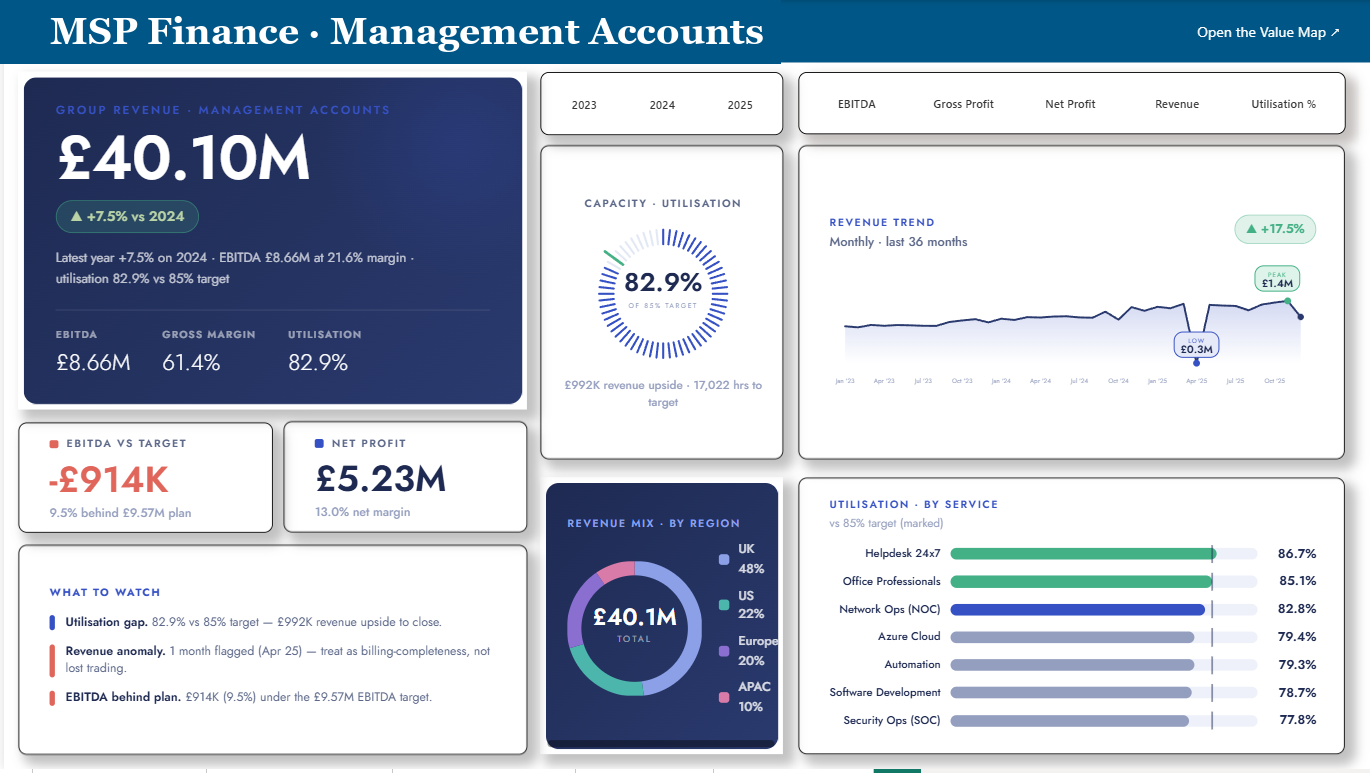

This screenshot's page, from the dashboard's own definition file:
{"tool":"powerbi","page":{"name":"Cover","canvas":[1280,720],"ordinal":0},"visuals":[{"type":"shape","box":[0,0,1280,58.4],"z":0},{"type":"textbox","title":"RVS iGlobal · Management Accounts","box":[13.5,9,718.1,49.4],"z":1000},{"type":"htmlContent443BE3AD55E043BF878BED274D3A6855","fields":{"content":["_Measures.Hero Card (Exec)"]},"box":[13.9,67.4,476.4,316.1],"z":2000},{"type":"htmlContent443BE3AD55E043BF878BED274D3A6855","fields":{"content":["_Measures.KPI Card - Net Profit"]},"box":[261.8,394.4,228.1,104.5],"z":3000},{"type":"htmlContent443BE3AD55E043BF878BED274D3A6855","fields":{"content":["_Measures.KPI Card - EBITDA vs Target"]},"box":[13.5,395.6,238.2,103.4],"z":4000},{"type":"htmlContent443BE3AD55E043BF878BED274D3A6855","fields":{"content":["_Measures.Utilisation Gauge"]},"box":[502.7,136.5,227.5,294.6],"z":5000},{"type":"htmlContent443BE3AD55E043BF878BED274D3A6855","fields":{"content":["_Measures.Trend Chart (Dynamic)"]},"box":[743.8,136.5,511.8,294.6],"z":6000},{"type":"advancedSlicerVisual","fields":{"Values":["Metric.Metric"]},"box":[743.9,67.4,512.4,58.4],"z":7000},{"type":"advancedSlicerVisual","fields":{"Values":["dim_date.Date Hierarchy.Year"]},"box":[502.7,67.1,227.5,59.1],"z":8000},{"type":"htmlContent443BE3AD55E043BF878BED274D3A6855","fields":{"content":["_Measures.Watch List"]},"box":[13.5,510.2,476.5,196.7],"z":9000},{"type":"htmlContent443BE3AD55E043BF878BED274D3A6855","fields":{"content":["_Measures.Revenue Mix Donut"]},"box":[502.7,446.9,227.5,259.3],"z":10000},{"type":"htmlContent443BE3AD55E043BF878BED274D3A6855","fields":{"content":["_Measures.Util by Service"]},"box":[743.8,446.9,511.8,259.3],"z":11000},{"type":"actionButton","box":[1099.6,10.3,170.9,39.9],"z":11001}]}

Visuals, with their boxes in screenshot pixels (x1, y1, x2, y2), scaled from the page's 1280x720 canvas onto the 1370x773 screenshot:
shape: 0 0 1369 63
"RVS iGlobal · Management Accounts" textbox: 14 10 783 63
htmlContent443BE3AD55E043BF878BED274D3A6855 - _Measures.Hero Card (Exec): 15 72 525 412
htmlContent443BE3AD55E043BF878BED274D3A6855 - _Measures.KPI Card - Net Profit: 280 423 524 536
htmlContent443BE3AD55E043BF878BED274D3A6855 - _Measures.KPI Card - EBITDA vs Target: 14 425 269 536
htmlContent443BE3AD55E043BF878BED274D3A6855 - _Measures.Utilisation Gauge: 538 147 782 463
htmlContent443BE3AD55E043BF878BED274D3A6855 - _Measures.Trend Chart (Dynamic): 796 147 1344 463
advancedSlicerVisual - Metric.Metric: 796 72 1345 135
advancedSlicerVisual - dim_date.Date Hierarchy.Year: 538 72 782 135
htmlContent443BE3AD55E043BF878BED274D3A6855 - _Measures.Watch List: 14 548 524 759
htmlContent443BE3AD55E043BF878BED274D3A6855 - _Measures.Revenue Mix Donut: 538 480 782 758
htmlContent443BE3AD55E043BF878BED274D3A6855 - _Measures.Util by Service: 796 480 1344 758
actionButton: 1177 11 1360 54
